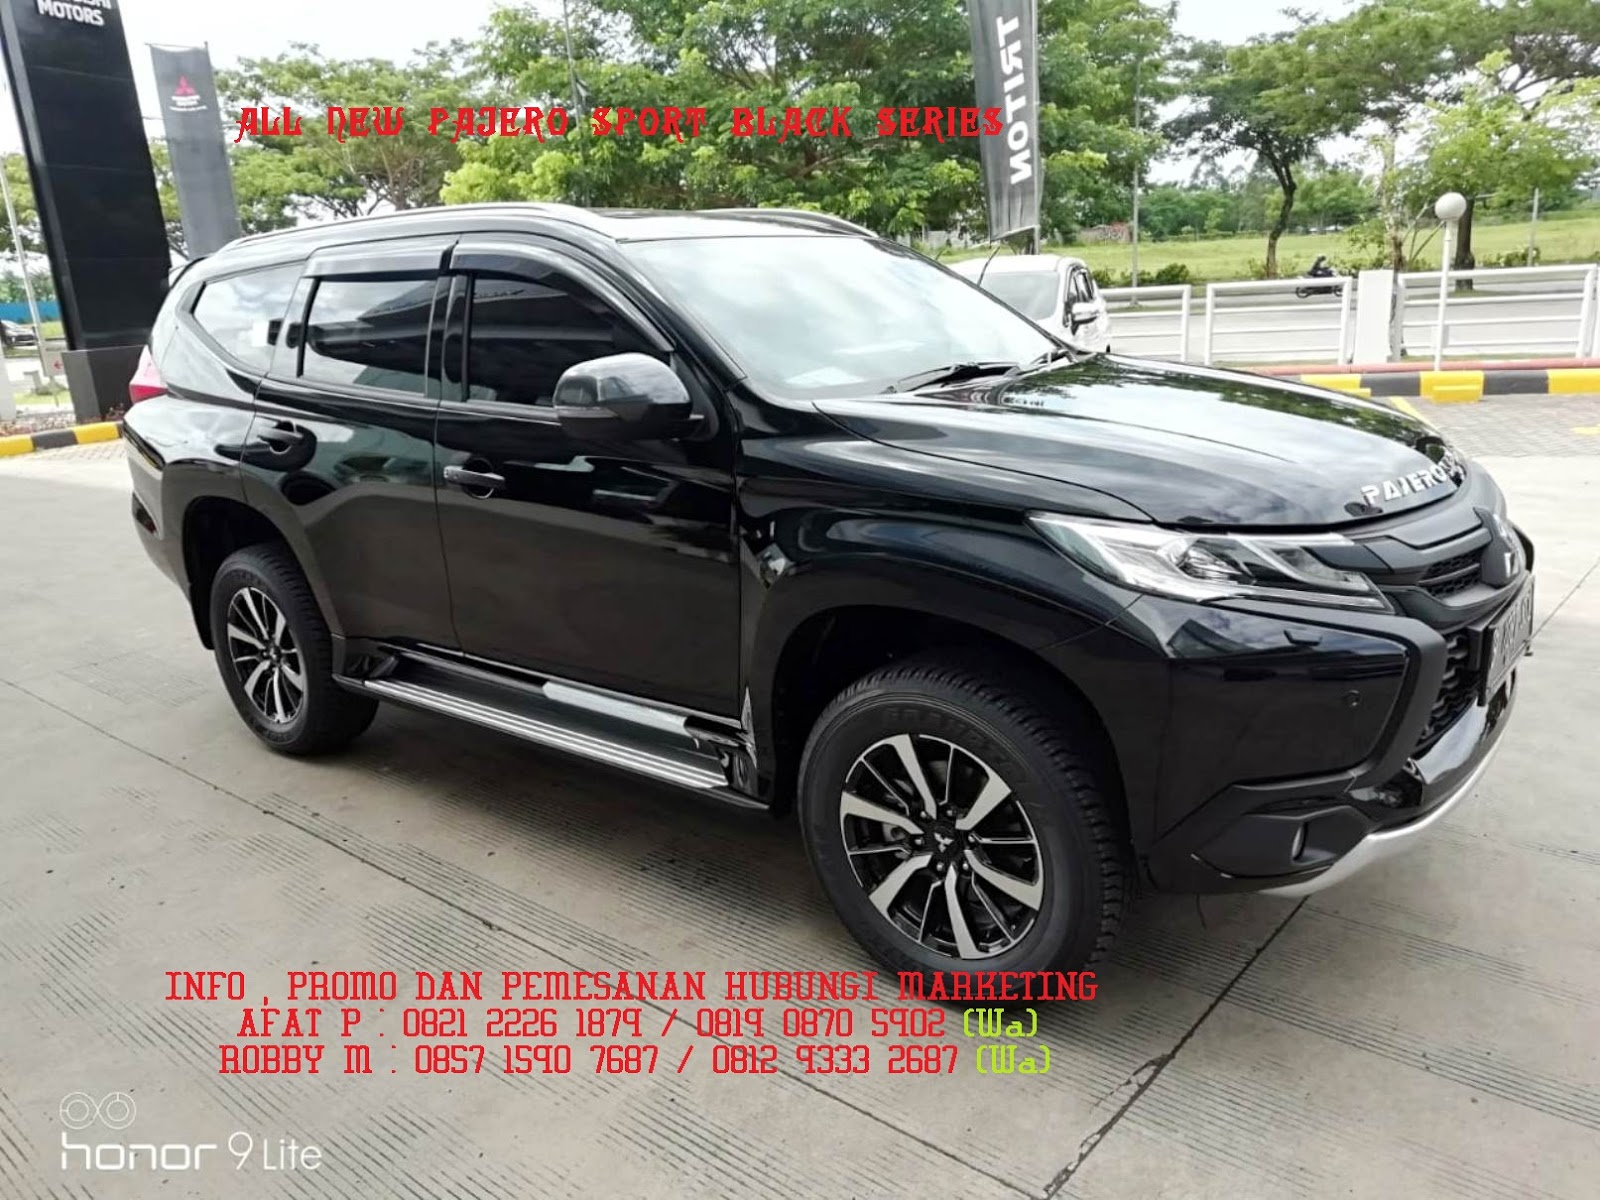pickup: (111, 193, 1540, 969)
